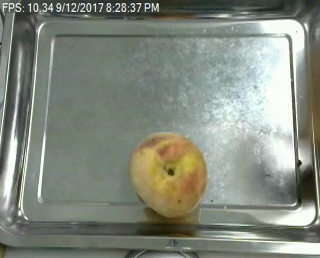Peach: (129, 130, 208, 220)
